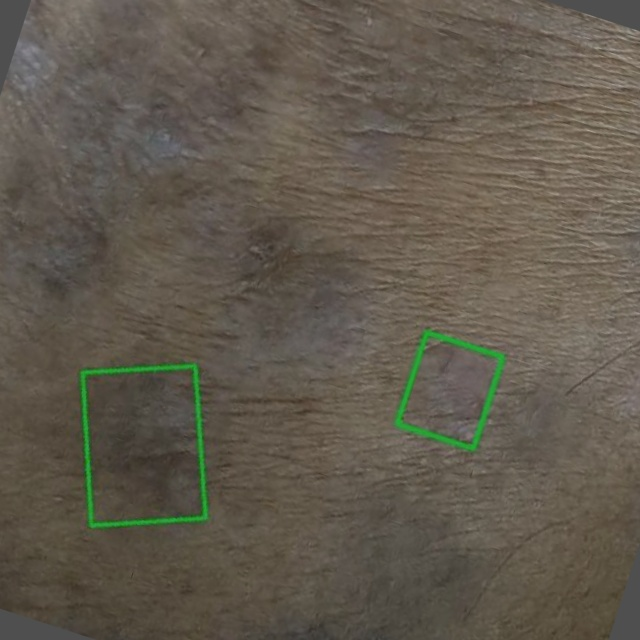Contact Dermatitis: (83, 365, 205, 524), (396, 332, 502, 448)
